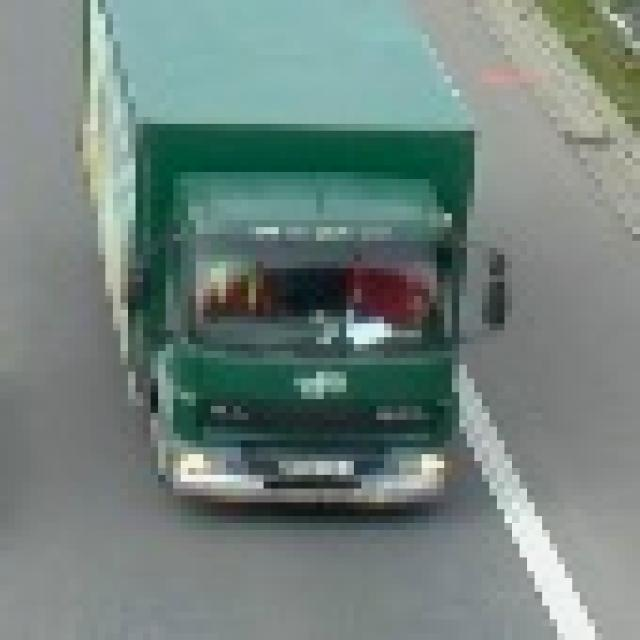truck: (69, 1, 498, 510)
